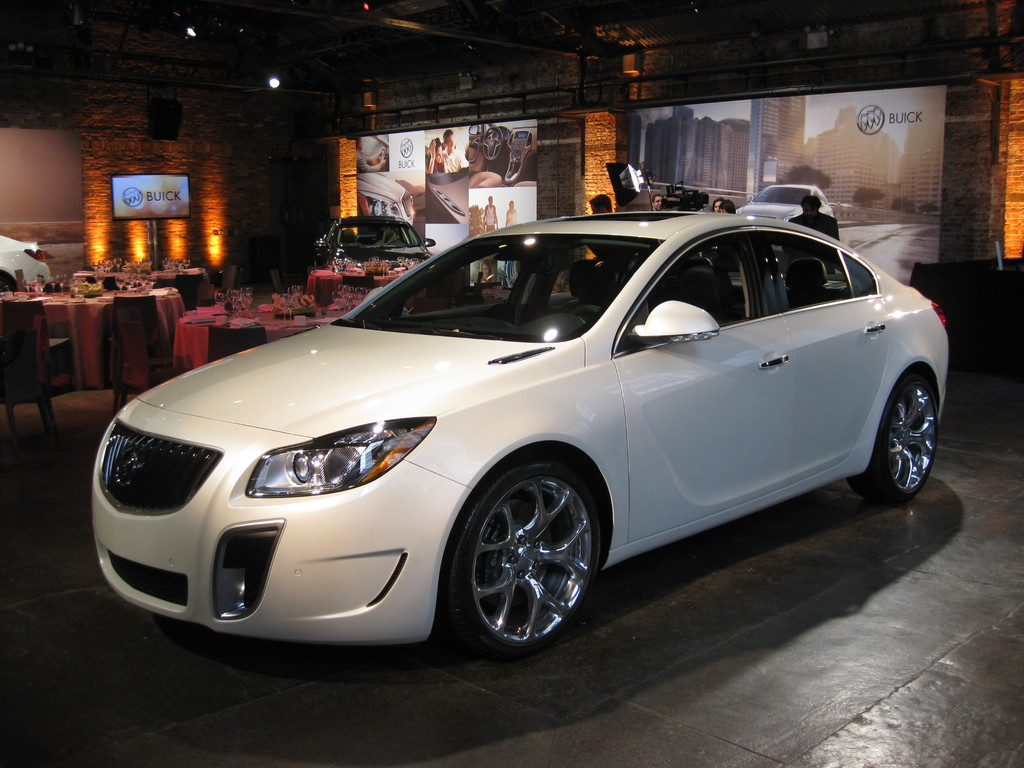Car: (87, 205, 956, 655), (736, 180, 832, 224)
